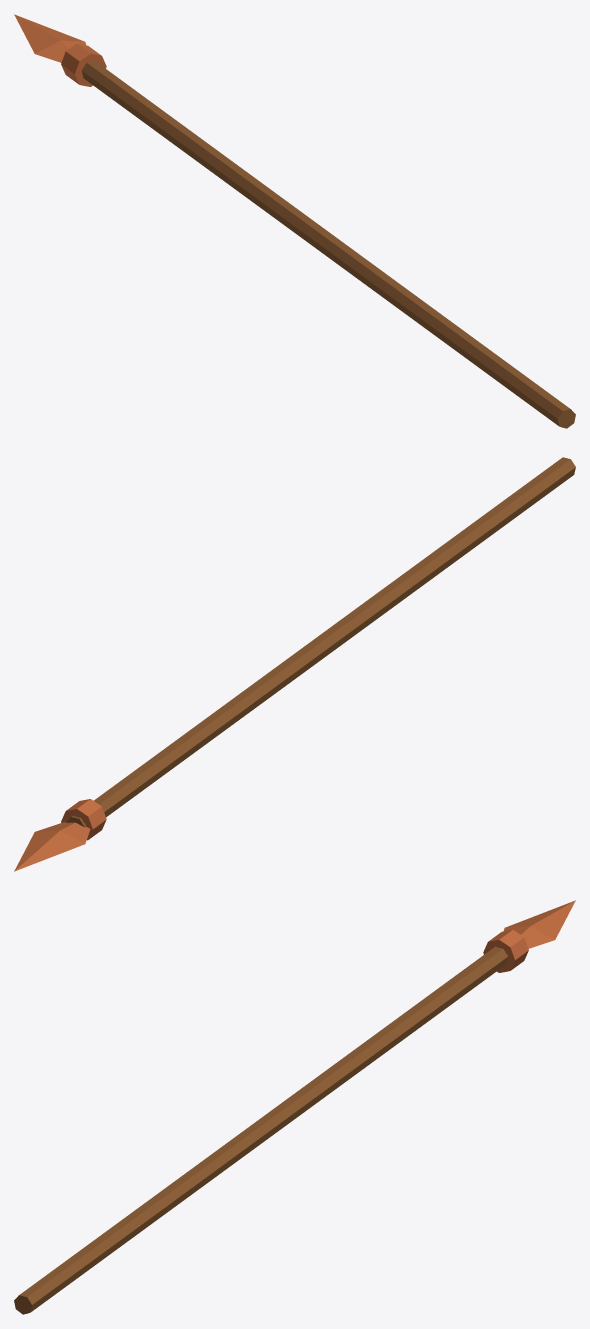
The model's file is Weapon_Spear_Copper.fbx.
3 views of the same model, one above another, from view 1: azimuth 30°, elevation 25°; view 2: azimuth 150°, elevation 25°; view 3: azimuth 330°, elevation 25° (orthographic).
Visible parts, largest first — view 1: Weapon_Spear_Copper; view 2: Weapon_Spear_Copper; view 3: Weapon_Spear_Copper.
Boxes of the visible parts, <box> form: Weapon_Spear_Copper: <box>14,14,575,428</box>; Weapon_Spear_Copper: <box>14,457,575,871</box>; Weapon_Spear_Copper: <box>14,900,575,1314</box>.
Size of the model in its own units: 0.038 by 0.024 by 0.72.
